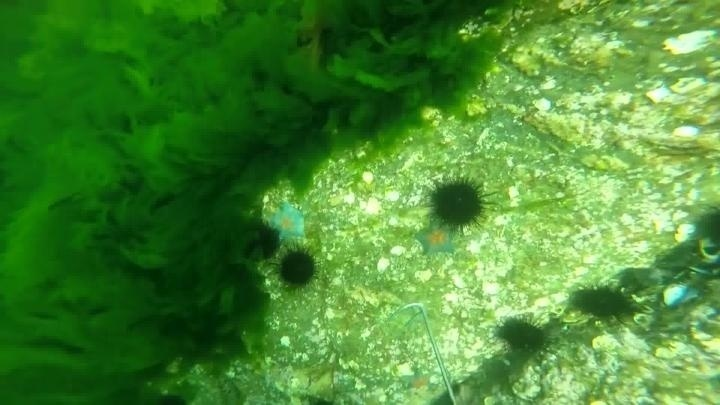echinus: (426, 175, 490, 232), (569, 281, 636, 324), (494, 314, 551, 356), (275, 246, 320, 291), (240, 219, 282, 263), (697, 206, 720, 247)
starfish: (265, 200, 311, 246), (413, 223, 459, 258)
